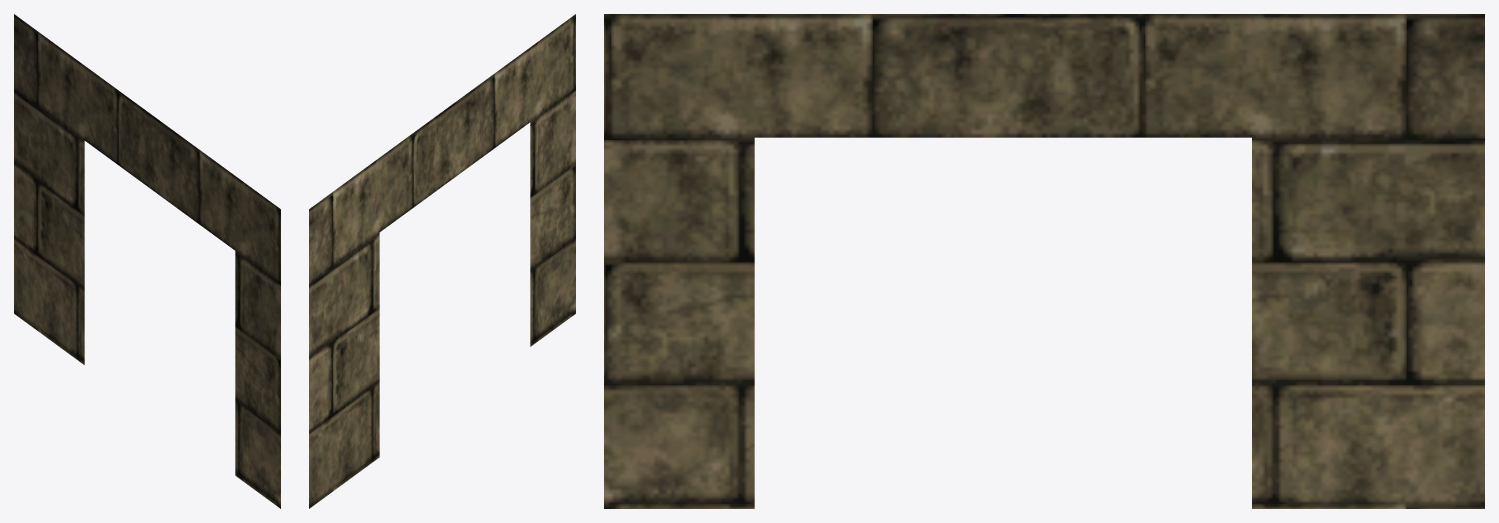
The model's file is OVERHILL_A_01_OBJECT122.fbx.
The picture shows the model from 3 angles, left to right: view 1: azimuth 30°, elevation 25°; view 2: azimuth 150°, elevation 25°; view 3: azimuth 270°, elevation 25°; orthographic projection. The views are drawn at different scales.
Parts seen in each view (by area): view 1: OVERHILL_A_01_OBJECT122; view 2: OVERHILL_A_01_OBJECT122; view 3: OVERHILL_A_01_OBJECT122.
Part boxes in pixels (x1=…): OVERHILL_A_01_OBJECT122: x1=14, y1=14, x2=280, y2=508; OVERHILL_A_01_OBJECT122: x1=309, y1=14, x2=575, y2=508; OVERHILL_A_01_OBJECT122: x1=604, y1=14, x2=1484, y2=508.
Size of the model in its own units: 0.1465 by 34378 by 55433.
1 material, 1 textured.
